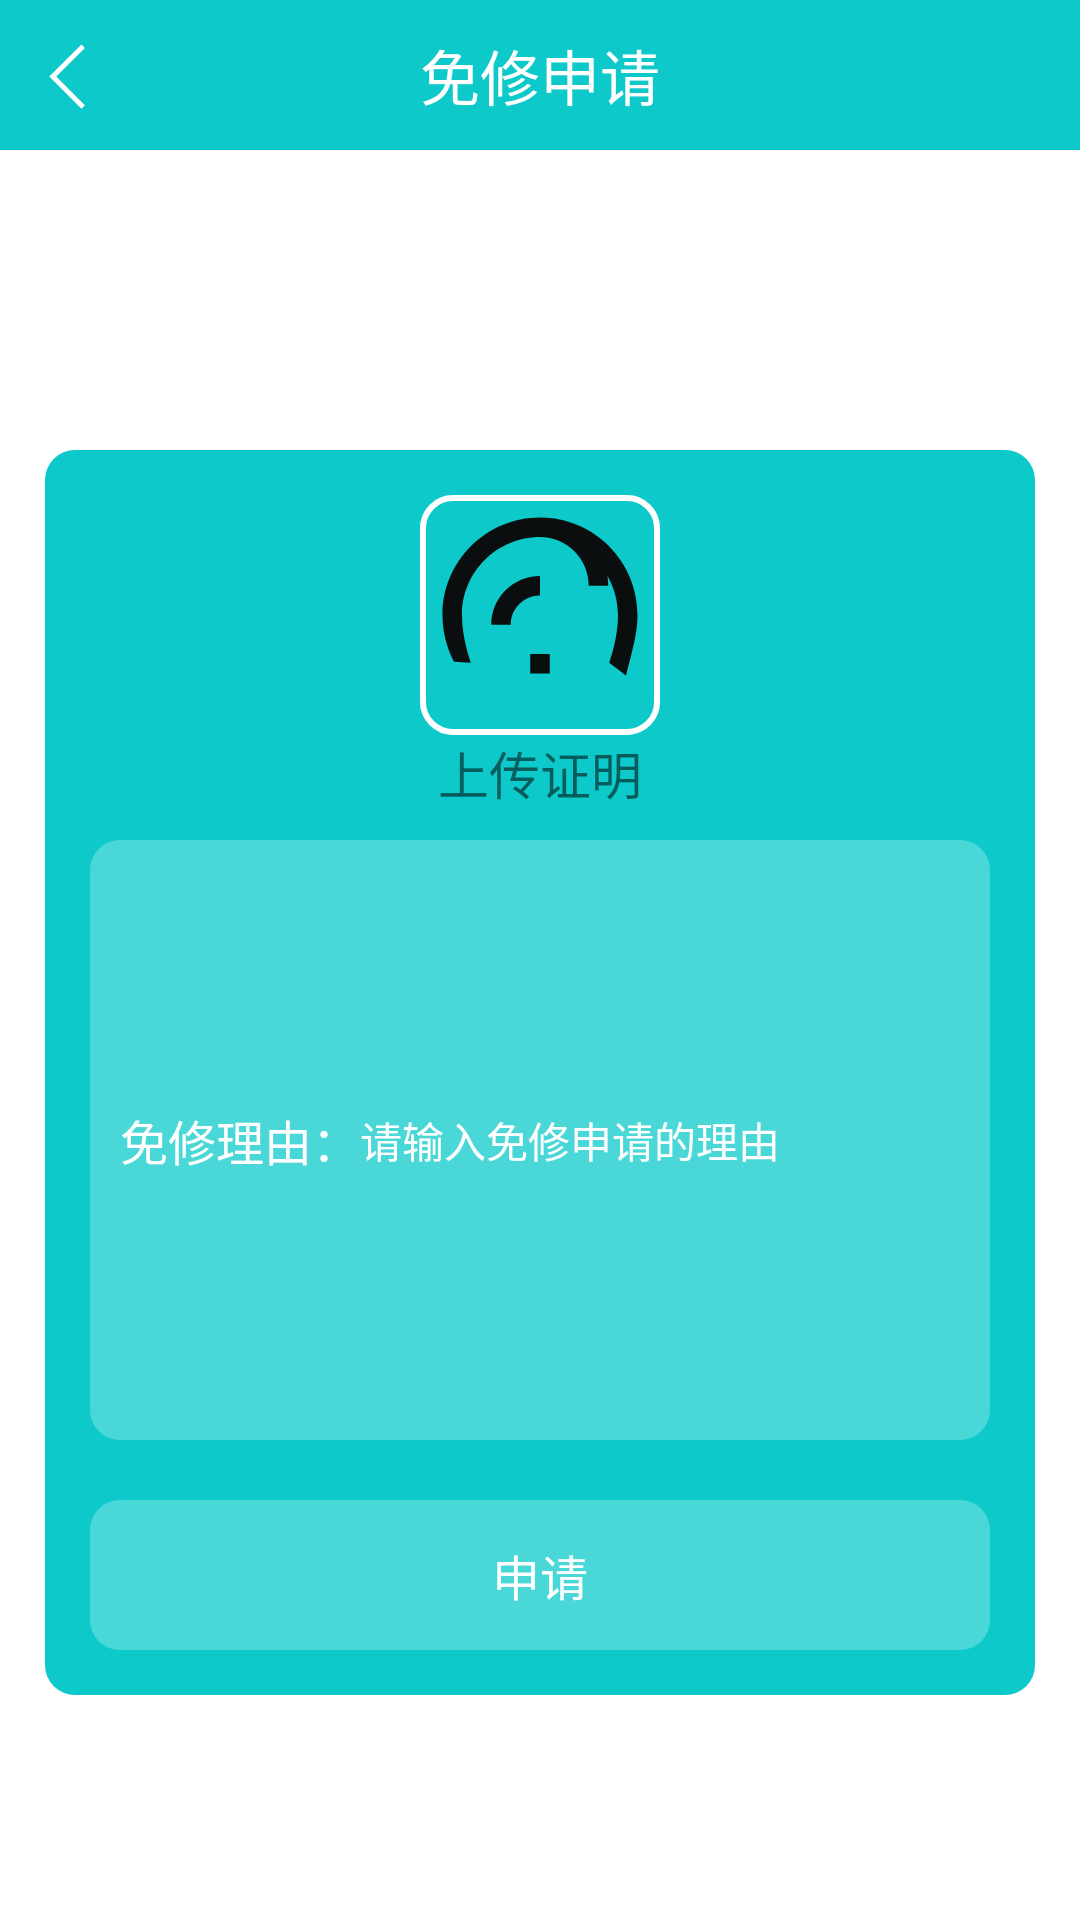

Icons on this 1080×1920 Android screen, each with its box as (x1, y1, x2, y2):
back: (49, 44, 85, 109)
